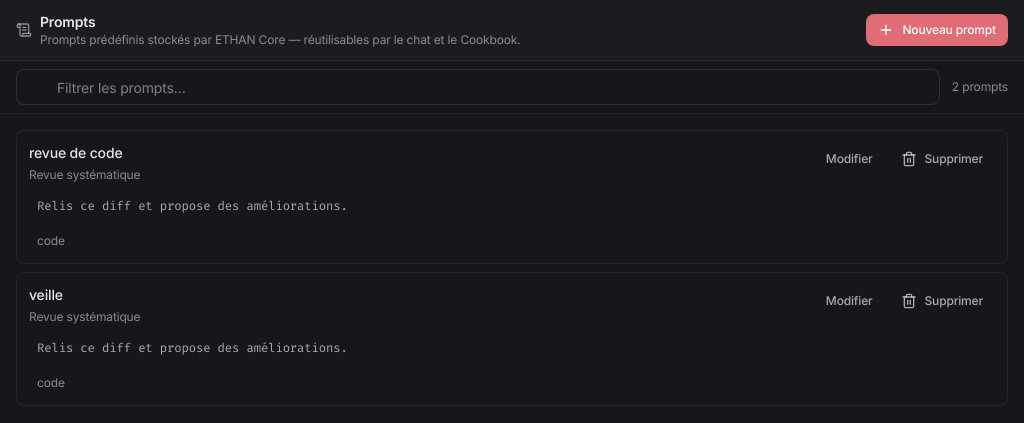
Test: PromptsWorkspace — affichage et filtre local › le filtre local restreint la liste affichée (présentation seule)
Expected: the heading "revue de code" is shown, [29,144,122,161]
Type "veille" into the field with placeholder "Filtrer les prompts…".
click(478, 87); type("veille")  # box [16,69,940,105]
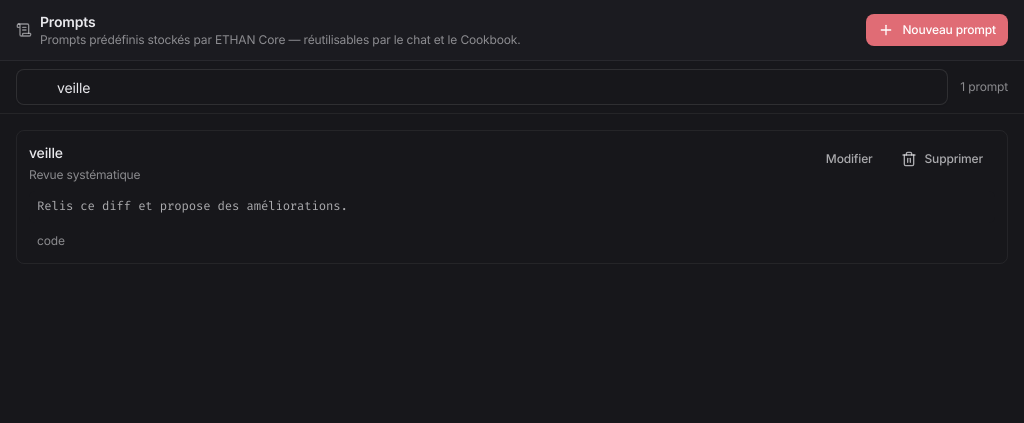
Expected: the heading "veille" is shown, [29,144,63,161]
Expected: the heading "revue de code" is gone
Expected: the text "1 prompt" is shown, [960,79,1008,95]
